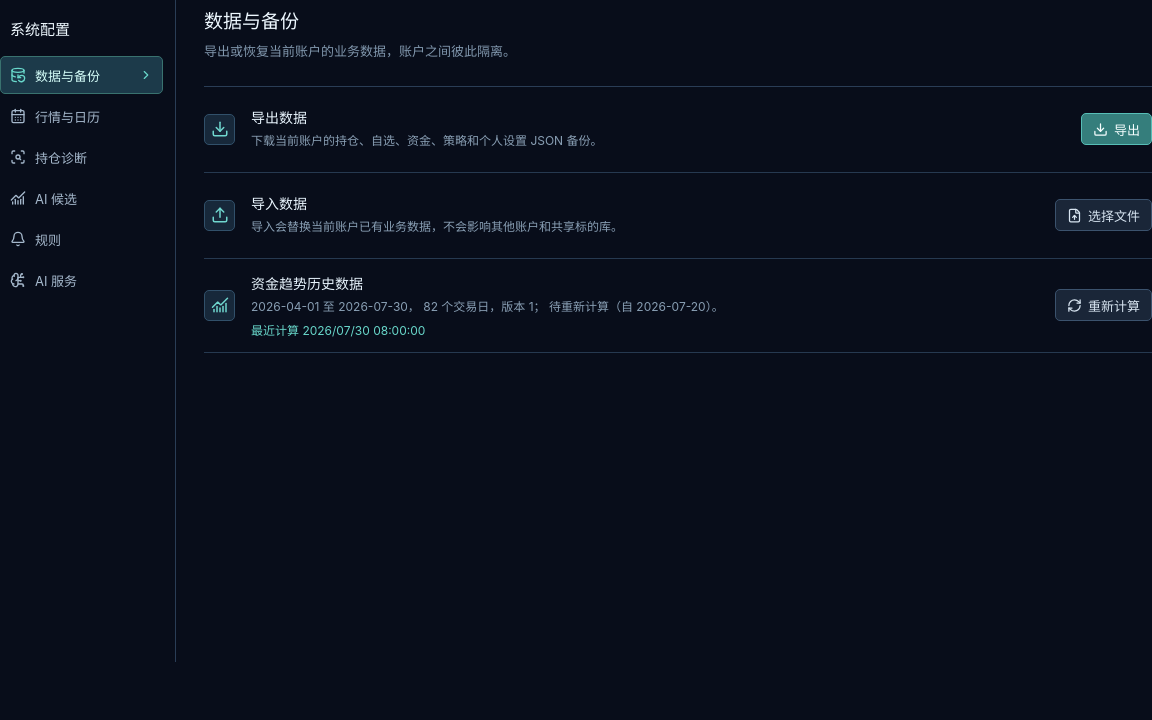
SystemConfigurationView › stops offering the retired local mock data source and saves only real sources
Click the button with class "system-configuration-nav-item" showing "行情与日历" at (82, 116), box x1=0 y1=97 x2=163 y2=135
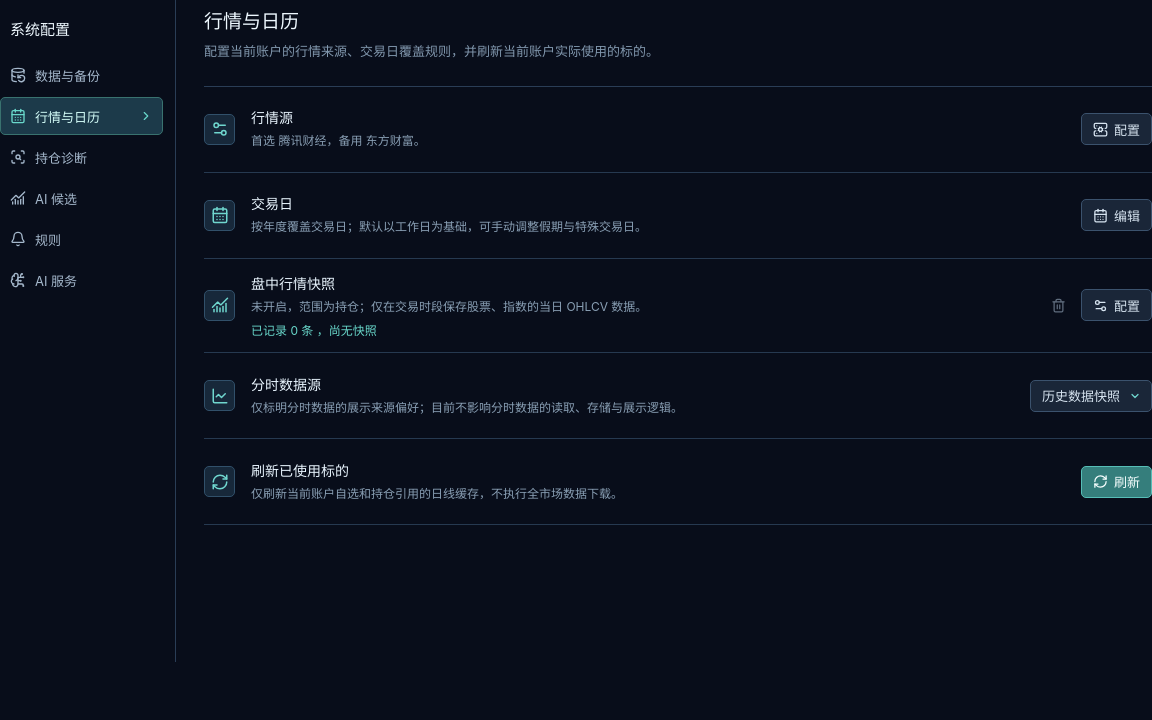
Click the button "配置" in the row of "首选 腾讯财经，备用 东方财富。" at (1116, 129), box x1=1081 y1=113 x2=1151 y2=145
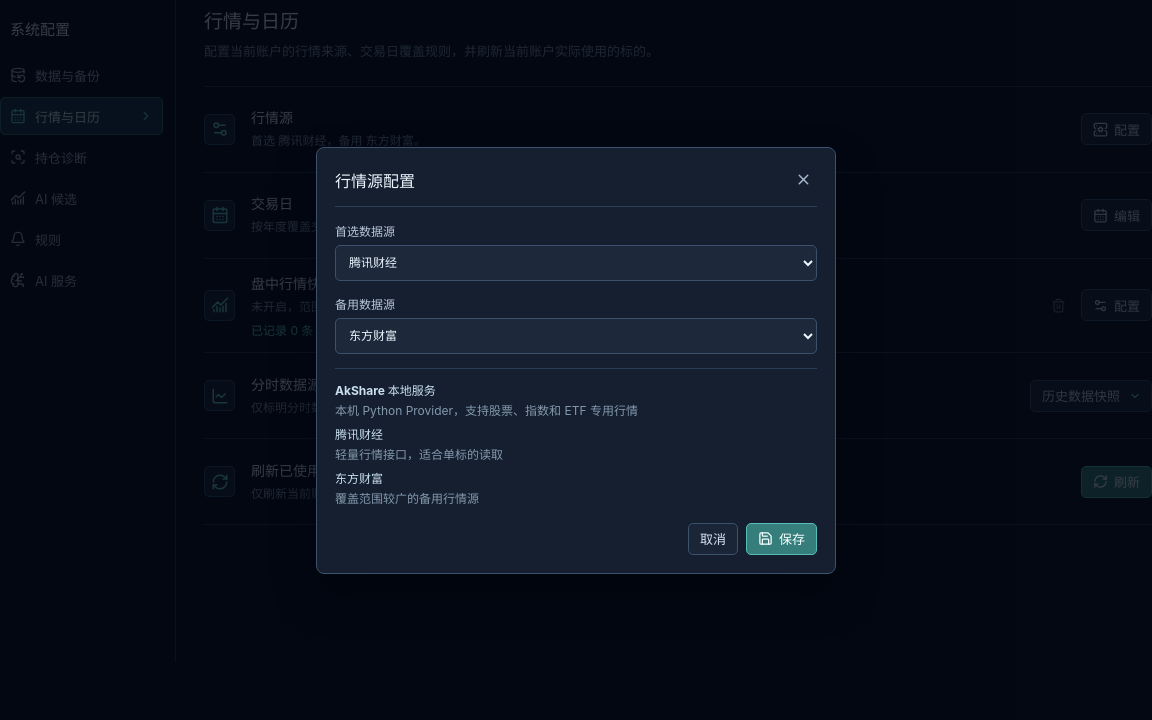
Select "东方财富" in the dropdown labelled "首选数据源" at (576, 262), box x1=335 y1=244 x2=817 y2=280
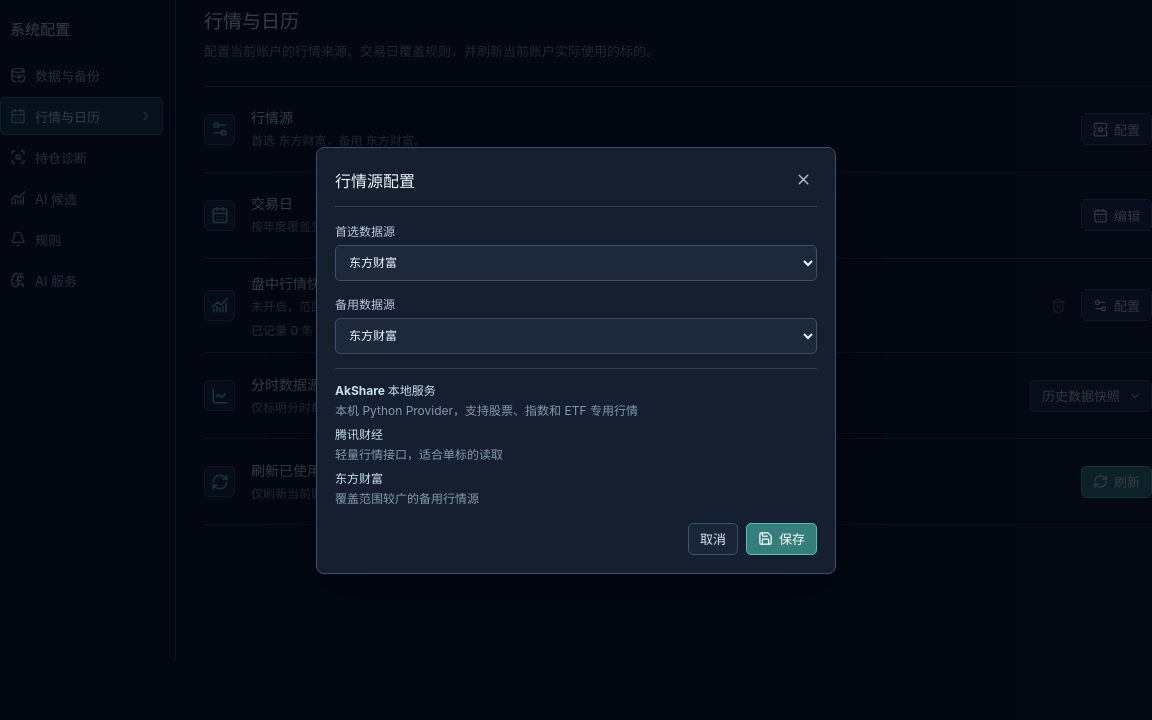
Select "腾讯财经" in the dropdown labelled "备用数据源" at (576, 336), box x1=335 y1=318 x2=817 y2=354
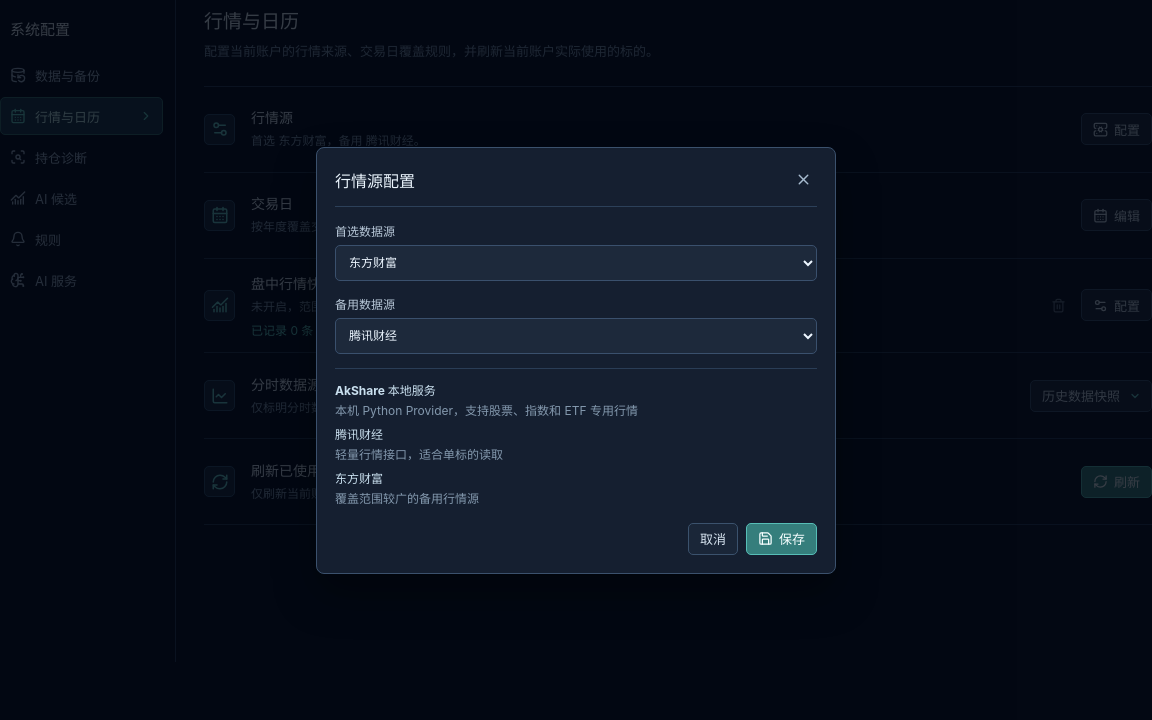
Submit the form with class "system-dialog-form", box x1=335 y1=222 x2=817 y2=554
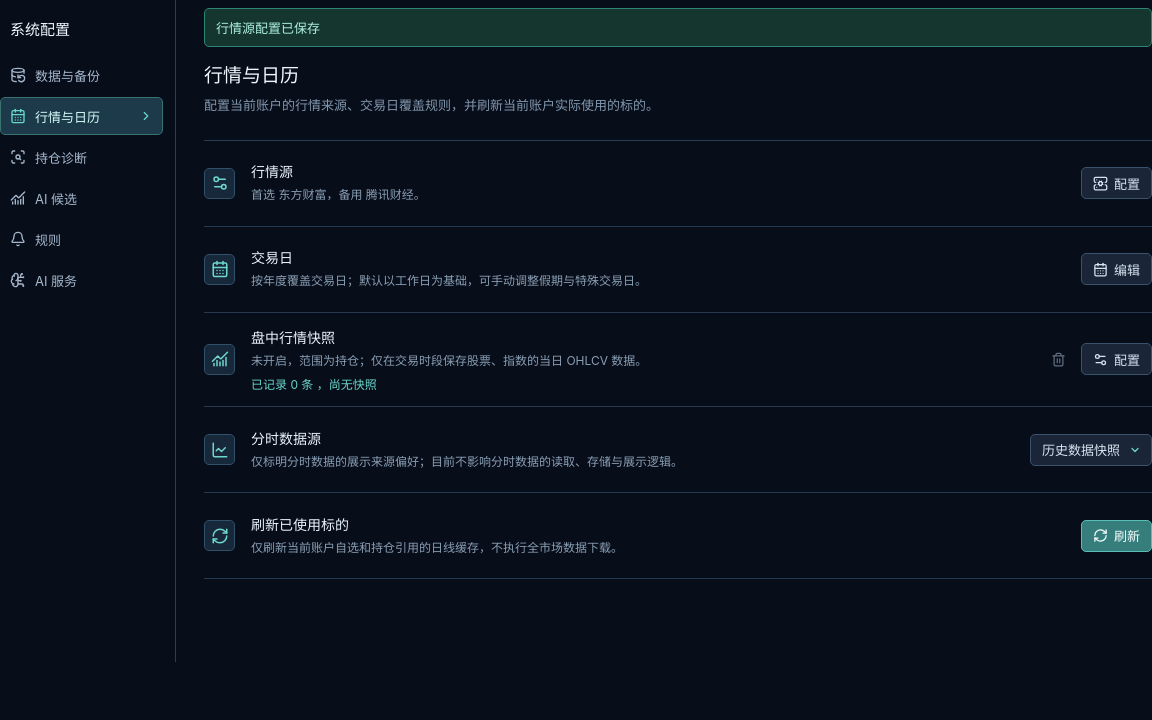
Expected: the text "行情源配置已保存" is shown, x1=204 y1=8 x2=1151 y2=47
